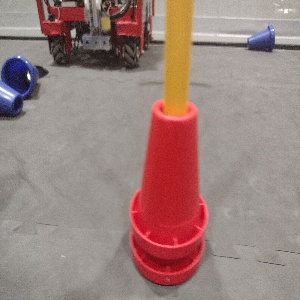Blue_1: (1, 54, 45, 99), (243, 21, 275, 56)
Red_2: (128, 81, 209, 288)
